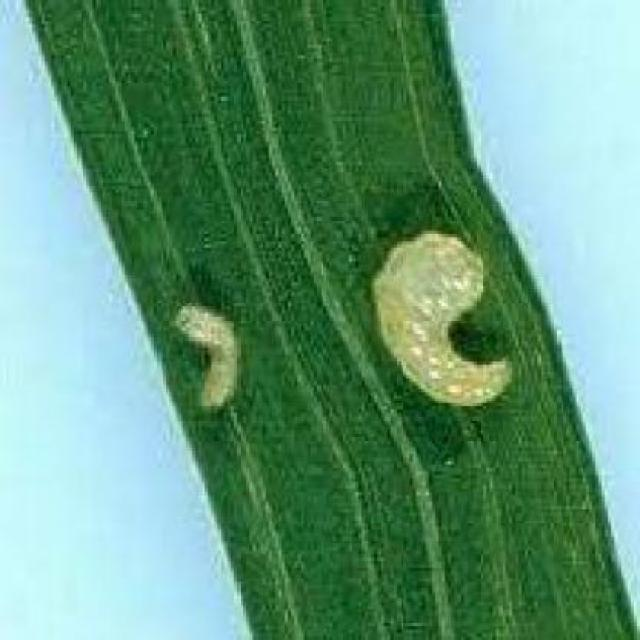whorl-maggot: (363, 227, 526, 418), (165, 289, 260, 431)
